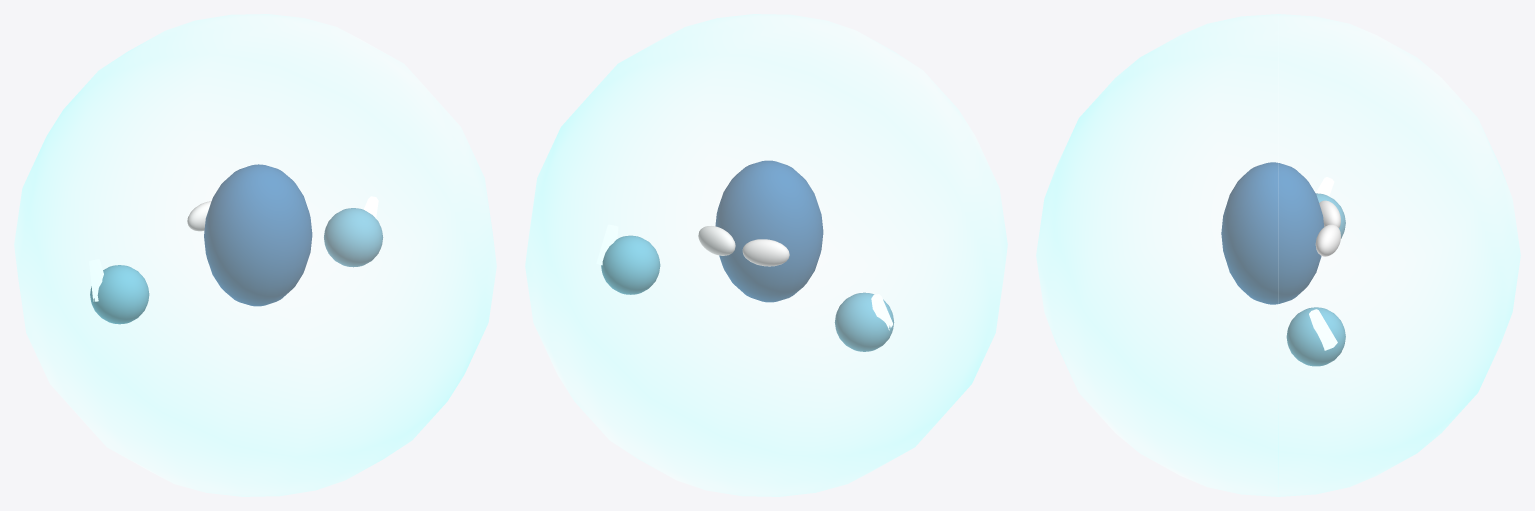
Rendered from archon.glb.
The picture shows the model from 3 angles, left to right: view 1: azimuth 30°, elevation 25°; view 2: azimuth 150°, elevation 25°; view 3: azimuth 270°, elevation 25°; orthographic projection.
Parts seen in each view (by area): view 1: ar_flame.001, ar_hood.001, ar_fist1.001, ar_fist-1.001; view 2: ar_flame.001, ar_hood.001, ar_fist1.001, ar_fist-1.001, ar_eye-1.001, ar_eye1.001; view 3: ar_flame.001, ar_hood.001, ar_fist1.001, ar_eye1.001, ar_bolt2.001.
Part boxes in pixels (left/top/right/bottom): ar_flame.001: left=14, top=14, right=496, bottom=496; ar_hood.001: left=204, top=164, right=312, bottom=306; ar_fist1.001: left=324, top=208, right=382, bottom=267; ar_fist-1.001: left=90, top=265, right=149, bottom=324; ar_flame.001: left=525, top=14, right=1007, bottom=496; ar_hood.001: left=715, top=160, right=823, bottom=302; ar_fist1.001: left=601, top=235, right=660, bottom=294; ar_fist-1.001: left=835, top=292, right=893, bottom=351; ar_eye-1.001: left=742, top=239, right=789, bottom=266; ar_eye1.001: left=698, top=226, right=735, bottom=255; ar_flame.001: left=1036, top=14, right=1520, bottom=496; ar_hood.001: left=1221, top=162, right=1323, bottom=304; ar_fist1.001: left=1286, top=307, right=1345, bottom=366; ar_eye1.001: left=1315, top=224, right=1340, bottom=256; ar_bolt2.001: left=1309, top=309, right=1337, bottom=350.
Bounding box in the file's own units: 1.83 × 1.83 × 1.83.
